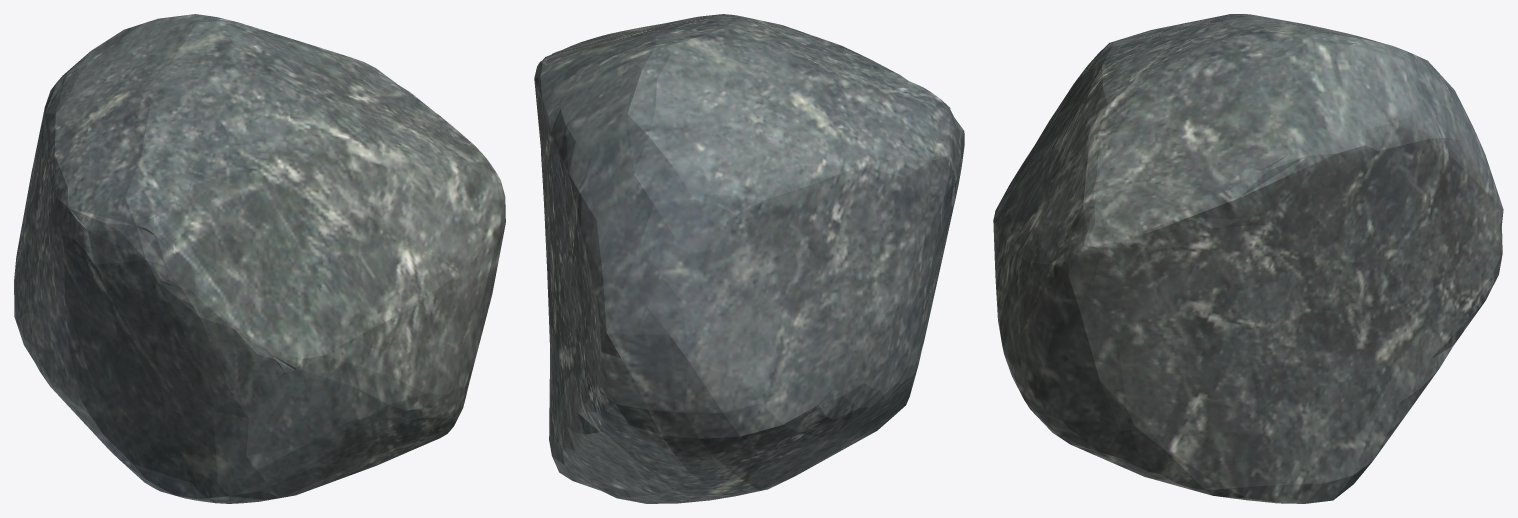
Rendered from rock1.fbx.
The picture shows the model from 3 angles, left to right: view 1: azimuth 30°, elevation 25°; view 2: azimuth 150°, elevation 25°; view 3: azimuth 270°, elevation 25°; orthographic projection. The views are drawn at different scales.
Visible parts, largest first — view 1: rock5:Mesh; view 2: rock5:Mesh; view 3: rock5:Mesh.
Boxes of the visible parts, bbox=[...] form: rock5:Mesh: bbox=[14, 14, 505, 503]; rock5:Mesh: bbox=[534, 14, 964, 503]; rock5:Mesh: bbox=[993, 14, 1503, 503].
Bounding box in the file's own units: 1.58 × 1.66 × 1.79.
Materials: 1 (1 with a texture image).
